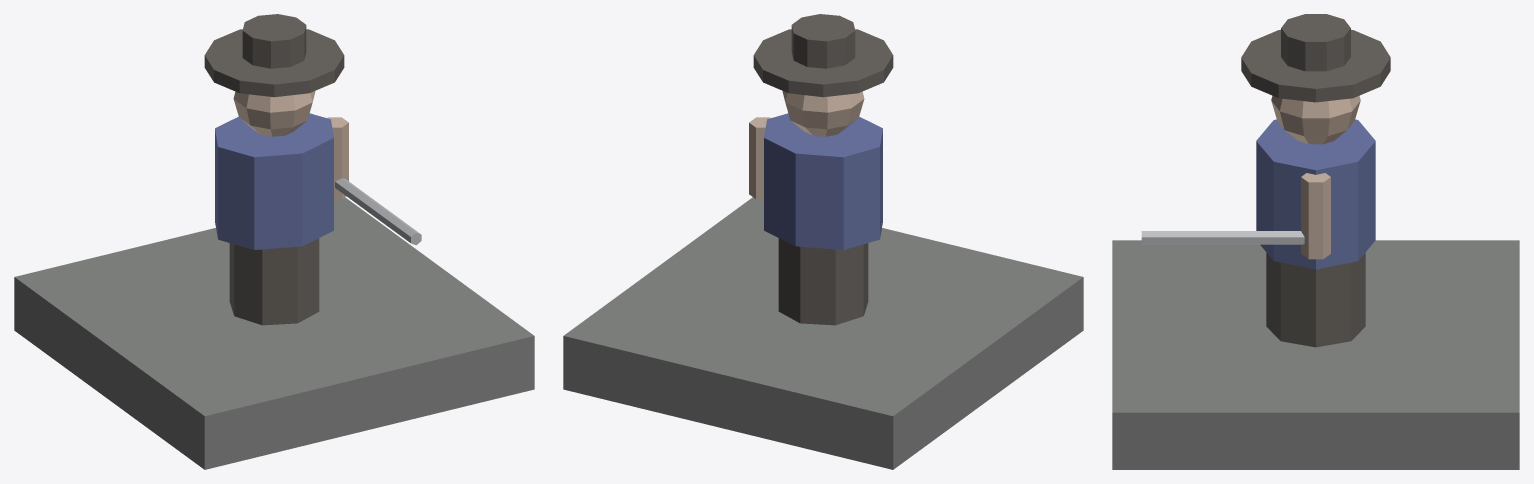
Rendered from human_musket.glb.
3 views of the same model, side by side, from view 1: azimuth 30°, elevation 25°; view 2: azimuth 150°, elevation 25°; view 3: azimuth 270°, elevation 25° (orthographic). The views are drawn at different scales.
Parts seen in each view (by area): view 1: Base, TurretMesh, ArmMesh; view 2: Base, TurretMesh, ArmMesh; view 3: Base, TurretMesh, ArmMesh.
Boxes of the visible parts, x1,y1,x2,y2 form: Base: [14, 197, 534, 469]; TurretMesh: [204, 14, 344, 325]; ArmMesh: [327, 117, 421, 245]; Base: [563, 197, 1083, 469]; TurretMesh: [753, 14, 893, 325]; ArmMesh: [749, 117, 770, 199]; Base: [1112, 240, 1519, 469]; TurretMesh: [1241, 14, 1390, 347]; ArmMesh: [1141, 173, 1330, 259].
Bounding box in the file's own units: 1.8 × 1.73 × 1.8.
